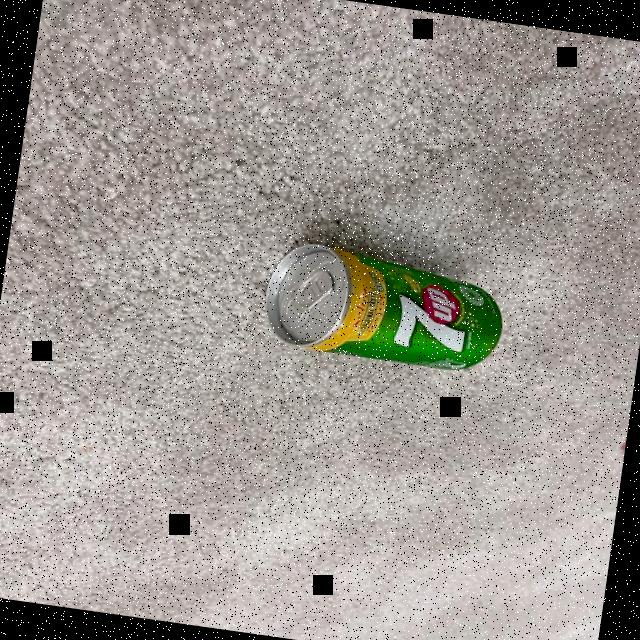can: (258, 242, 508, 380)
